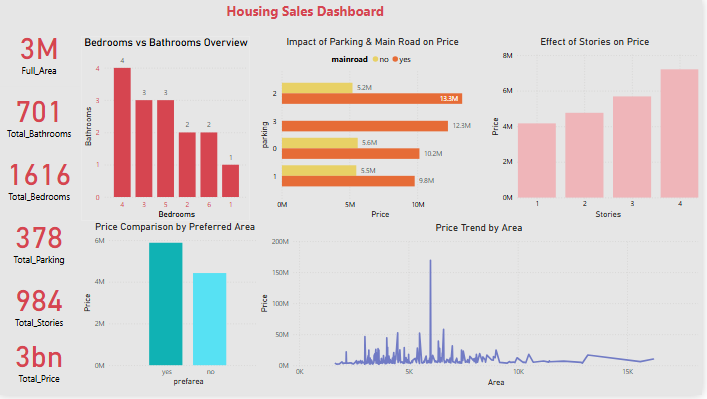

What the dashboard file says about the page in this screenshot:
{"tool":"powerbi","page":{"name":"Page 1","canvas":[1280,720],"ordinal":0},"visuals":[{"type":"card","fields":{"Values":["Sum(Sheet1.area)"]},"box":[0,44.9,149.3,114.5],"z":0},{"type":"textbox","box":[0,0,1117.4,44.9],"z":1000},{"type":"card","fields":{"Values":["Sum(Sheet1.bathrooms)"]},"box":[0,159.4,149.3,114.5],"z":2000},{"type":"card","fields":{"Values":["Sum(Sheet1.bedrooms)"]},"box":[0,273.9,149.3,114.5],"z":3000},{"type":"card","fields":{"Values":["Sum(Sheet1.parking)"]},"box":[0,388.4,149.3,114.5],"z":4000},{"type":"card","fields":{"Values":["Sum(Sheet1.price)"]},"box":[0,605.8,149.3,114.5],"z":5000},{"type":"card","fields":{"Values":["Sum(Sheet1.stories)"]},"box":[0,502.9,149.3,114.5],"z":6000},{"type":"clusteredColumnChart","title":"Bedrooms vs Bathrooms Overview","fields":{"Category":["Sheet1.bedrooms"],"Y":["Count(Sheet1.bathrooms)"]},"box":[150,67.6,308.8,336.8],"z":7000},{"type":"clusteredBarChart","title":"Impact of Parking & Main Road on Price","fields":{"Category":["Sheet1.parking"],"Series":["Sheet1.mainroad"],"Y":["Max(Sheet1.price)"]},"box":[470.6,67.6,420.6,336.8],"z":8000},{"type":"lineStackedColumnComboChart","title":"Effect of Stories on Price","fields":{"Category":["Sheet1.stories"],"Y":["Avg(Sheet1.price)"]},"box":[891.2,67.6,388.2,336.8],"z":8001},{"type":"clusteredColumnChart","title":"Price Comparison by Preferred Area","fields":{"Category":["Sheet1.prefarea"],"Y":["Avg(Sheet1.price)"]},"box":[148.7,403.9,346.1,305.3],"z":8002},{"type":"lineChart","title":"Price Trend by Area","fields":{"Category":["Sheet1.area"],"Y":["Sum(Sheet1.price)"]},"box":[470.9,405.5,807.3,303.6],"z":8005}]}

Visuals, with their boxes in screenshot pixels (x1, y1, x2, y2), scaled from the page's 1280x720 canvas onto the 707x399 screenshot:
card - Sum(Sheet1.area): {"x1": 0, "y1": 25, "x2": 82, "y2": 88}
textbox: {"x1": 0, "y1": 0, "x2": 617, "y2": 25}
card - Sum(Sheet1.bathrooms): {"x1": 0, "y1": 88, "x2": 82, "y2": 152}
card - Sum(Sheet1.bedrooms): {"x1": 0, "y1": 152, "x2": 82, "y2": 215}
card - Sum(Sheet1.parking): {"x1": 0, "y1": 215, "x2": 82, "y2": 279}
card - Sum(Sheet1.price): {"x1": 0, "y1": 336, "x2": 82, "y2": 398}
card - Sum(Sheet1.stories): {"x1": 0, "y1": 279, "x2": 82, "y2": 342}
"Bedrooms vs Bathrooms Overview" clusteredColumnChart: {"x1": 83, "y1": 37, "x2": 253, "y2": 224}
"Impact of Parking & Main Road on Price" clusteredBarChart: {"x1": 260, "y1": 37, "x2": 492, "y2": 224}
"Effect of Stories on Price" lineStackedColumnComboChart: {"x1": 492, "y1": 37, "x2": 706, "y2": 224}
"Price Comparison by Preferred Area" clusteredColumnChart: {"x1": 82, "y1": 224, "x2": 273, "y2": 393}
"Price Trend by Area" lineChart: {"x1": 260, "y1": 225, "x2": 706, "y2": 393}
